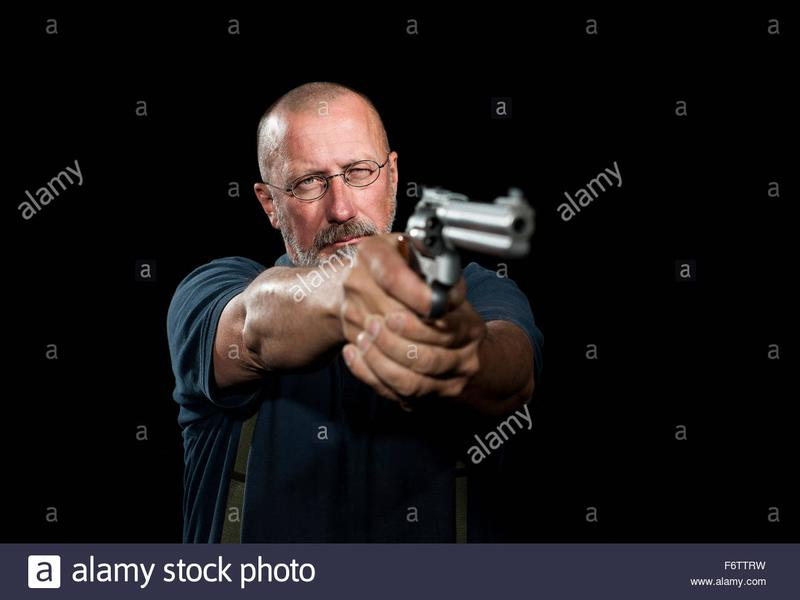Revolver: (400, 174, 536, 340)
